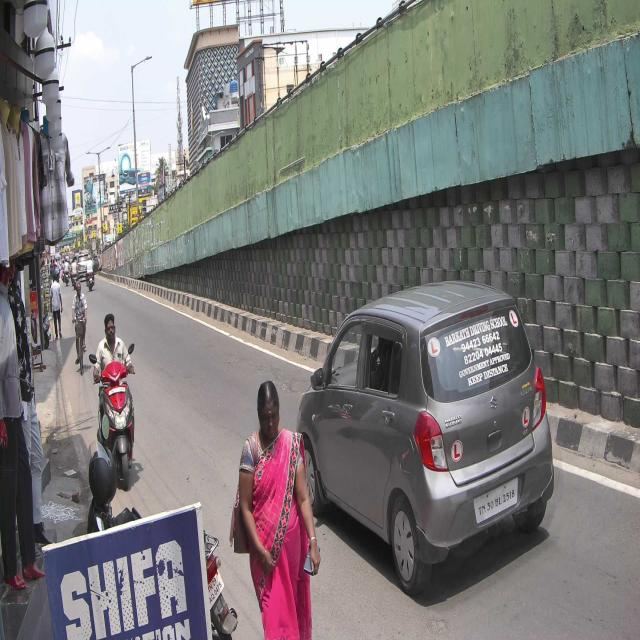single_rider: (88, 310, 142, 496)
